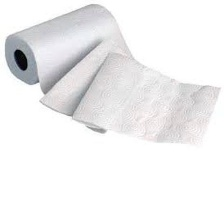tissue: (0, 0, 144, 138), (67, 46, 224, 150)
